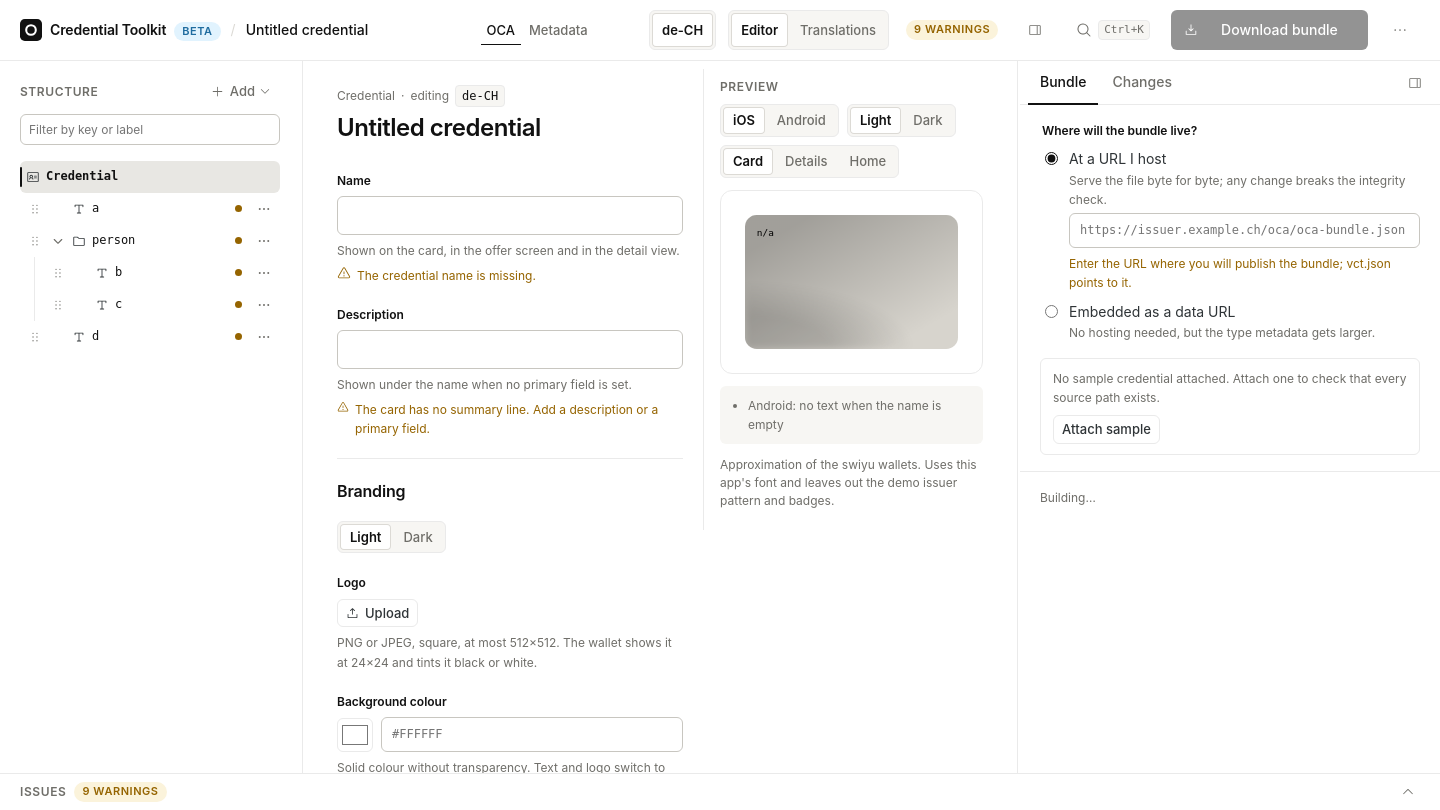
Test: Structure Add menu › adds an attribute right after the selected attribute, selects it and focuses its key
What coordinates should you click on to do the following:
click the list item "a"
I would click on:
 (79, 209)
Its box is [20,193,280,225].
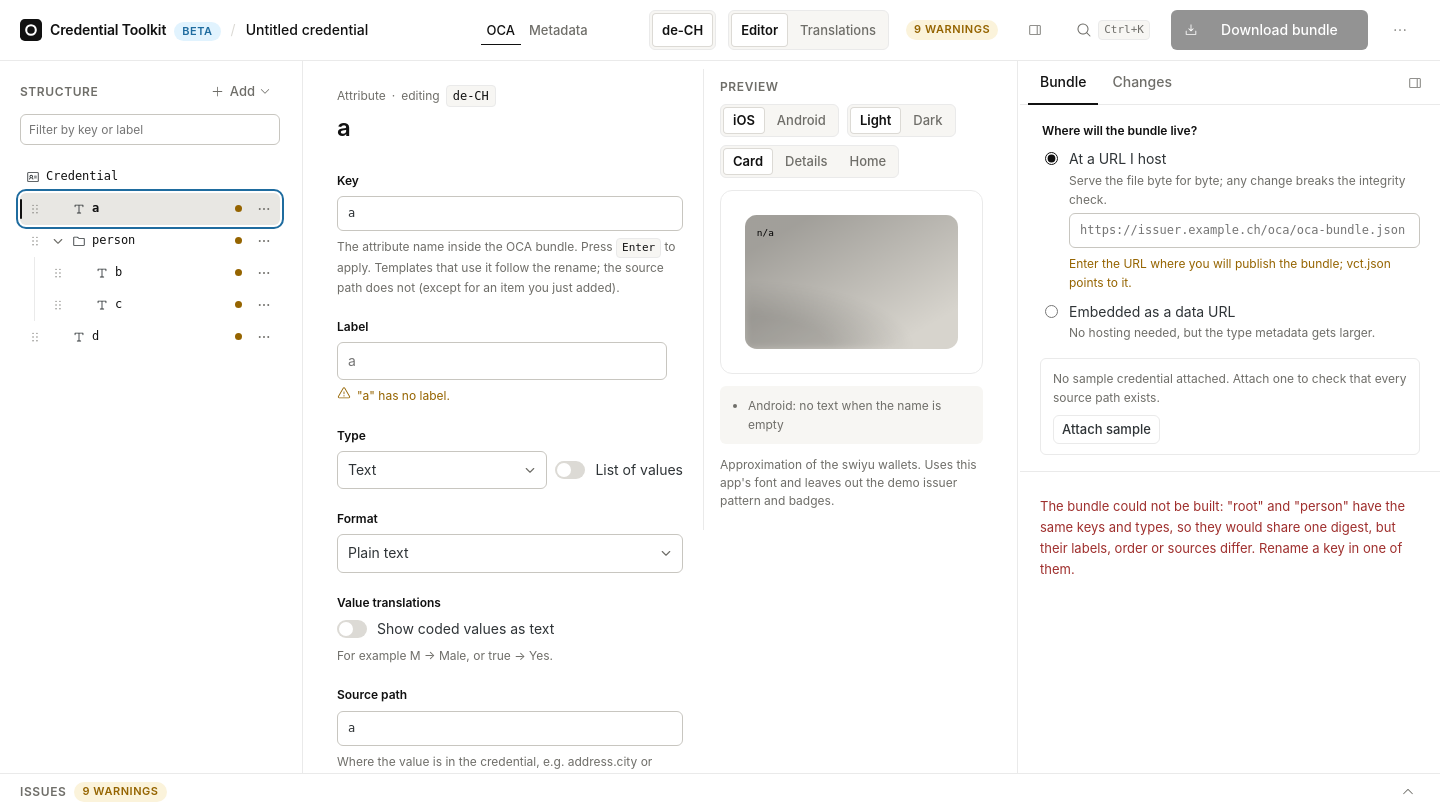
What coordinates should you click on to do the following:
click the button "Add"
I would click on:
 (241, 91)
Its box is [202,77,280,106].
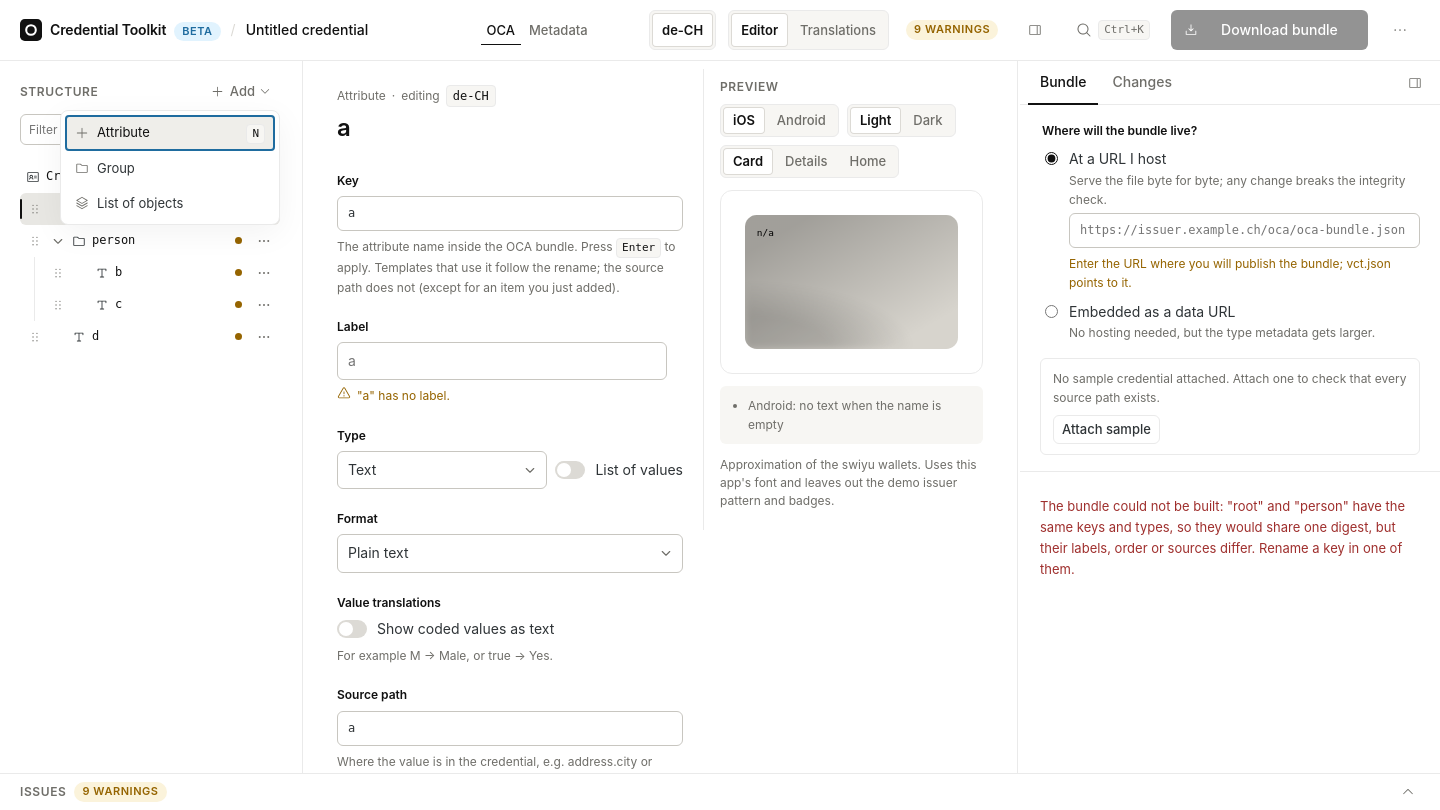
What coordinates should you click on to do the following:
click the menu item "Attribute N"
I would click on:
 (170, 133)
Its box is [65,115,275,151].
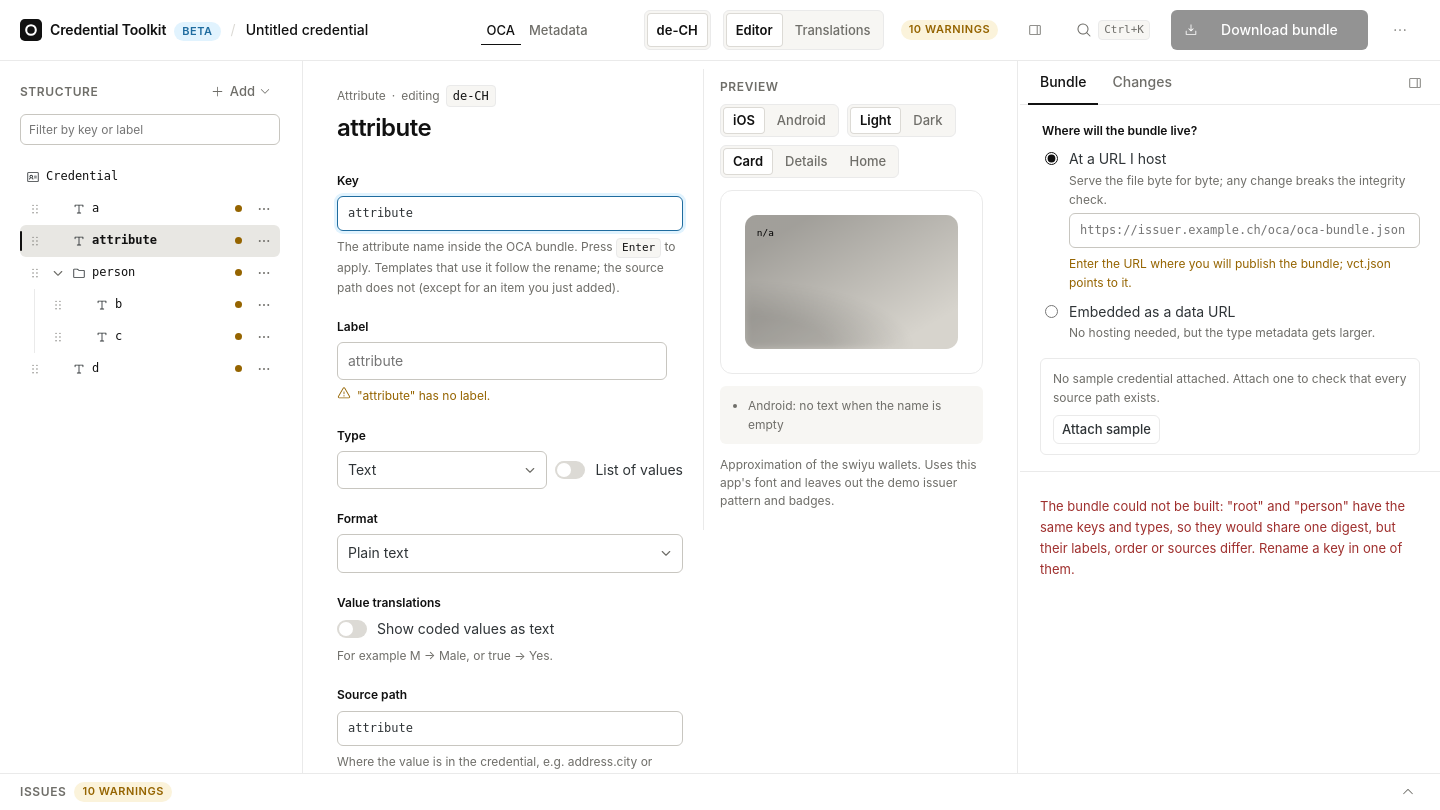
Expected: the menu is gone
Expected: the text "attribute" is shown, [92,231,157,251]
Expected: the dropdown labelled "Key" holds "attribute", [337,196,683,231]
